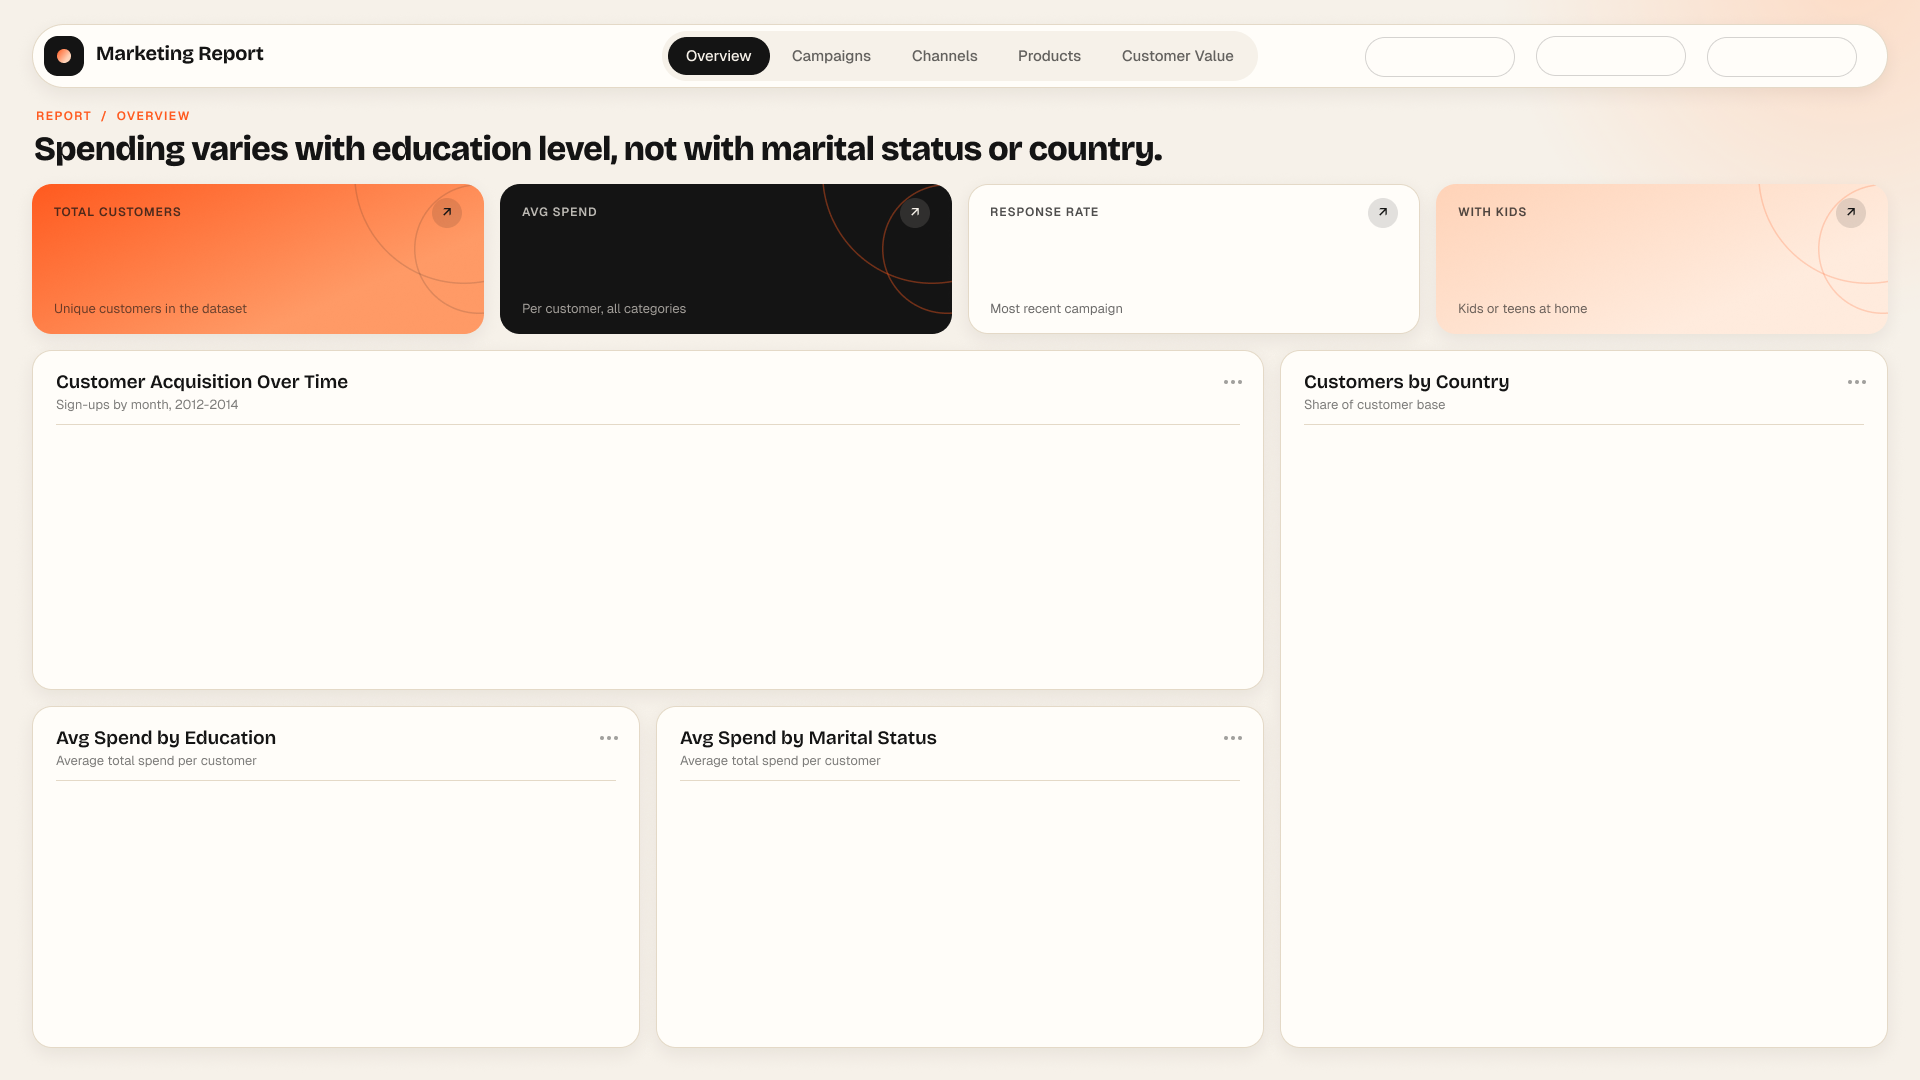

What the dashboard file says about the page in this screenshot:
{"tool":"powerbi","page":{"name":"Overview","canvas":[1920,1080],"ordinal":0},"visuals":[{"type":"cardVisual","fields":{"Data":["CountNonNull(marketing_data_cleaned.ID)"]},"box":[16.6,169.2,198.7,161.9],"z":0},{"type":"cardVisual","fields":{"Data":["marketing_data_cleaned.AVG Spend"]},"box":[430.4,169.2,268.6,161.9],"z":1000},{"type":"cardVisual","fields":{"Data":["marketing_data_cleaned.Response Rate"]},"box":[941.3,169.8,198.7,161.9],"z":2000},{"type":"cardVisual","fields":{"Data":["marketing_data_cleaned.HasKids Rate"]},"box":[1405.4,169.8,198.7,161.9],"z":3000},{"type":"columnChart","fields":{"Category":["marketing_data_cleaned.Dt_Customer.Variation.Date Hierarchy.Year","marketing_data_cleaned.Dt_Customer.Variation.Date Hierarchy.Quarter","marketing_data_cleaned.Dt_Customer.Variation.Date Hierarchy.Month","marketing_data_cleaned.Dt_Customer.Variation.Date Hierarchy.Day"],"Y":["CountNonNull(marketing_data_cleaned.ID)"]},"box":[44.1,419.4,1179.1,268.6],"z":4000},{"type":"barChart","fields":{"Category":["marketing_data_cleaned.Education"],"Y":["marketing_data_cleaned.AVG Spend"]},"box":[44.1,772.6,590.5,272.2],"z":5000},{"type":"barChart","fields":{"Category":["marketing_data_cleaned.Marital_Status"],"Y":["marketing_data_cleaned.AVG Spend"]},"box":[664,772.6,590.5,272.2],"z":6000},{"type":"clusteredBarChart","fields":{"Category":["marketing_data_cleaned.Country"],"Y":["marketing_data_cleaned.Customer %"]},"box":[1278.4,397.3,619.9,647.5],"z":7000},{"type":"actionButton","box":[778.2,27.1,110.4,43.4],"z":8000},{"type":"actionButton","box":[888.5,27.1,110.4,43.4],"z":9000},{"type":"actionButton","box":[998.9,27.1,110.4,43.4],"z":10000},{"type":"actionButton","box":[1112.9,27.1,128.5,43.4],"z":11000},{"type":"slicer","fields":{"Values":["marketing_data_cleaned.Income_Tier"]},"box":[1373,30,135.7,43.4],"z":12000},{"type":"slicer","fields":{"Values":["marketing_data_cleaned.Education"]},"box":[1543.9,30.8,135,43.4],"z":13000},{"type":"slicer","fields":{"Values":["marketing_data_cleaned.Country"]},"box":[1714,30,135,43],"z":14000}]}

Visuals, with their boxes on the page's 1920x1080 design canvas (x1, y1, x2, y2). These are canvas units, not pixel positions in the 1920x1080 screenshot, which may show the page scaled, cropped or inside an application window:
cardVisual - CountNonNull(marketing_data_cleaned.ID): [17, 169, 215, 331]
cardVisual - marketing_data_cleaned.AVG Spend: [430, 169, 699, 331]
cardVisual - marketing_data_cleaned.Response Rate: [941, 170, 1140, 332]
cardVisual - marketing_data_cleaned.HasKids Rate: [1405, 170, 1604, 332]
columnChart - marketing_data_cleaned.Dt_Customer.Variation.Date Hierarchy.Year x marketing_data_cleaned.Dt_Customer.Variation.Date Hierarchy.Quarter: [44, 419, 1223, 688]
barChart - marketing_data_cleaned.Education x marketing_data_cleaned.AVG Spend: [44, 773, 635, 1045]
barChart - marketing_data_cleaned.Marital_Status x marketing_data_cleaned.AVG Spend: [664, 773, 1254, 1045]
clusteredBarChart - marketing_data_cleaned.Country x marketing_data_cleaned.Customer %: [1278, 397, 1898, 1045]
actionButton: [778, 27, 889, 70]
actionButton: [888, 27, 999, 70]
actionButton: [999, 27, 1109, 70]
actionButton: [1113, 27, 1241, 70]
slicer - marketing_data_cleaned.Income_Tier: [1373, 30, 1509, 73]
slicer - marketing_data_cleaned.Education: [1544, 31, 1679, 74]
slicer - marketing_data_cleaned.Country: [1714, 30, 1849, 73]
